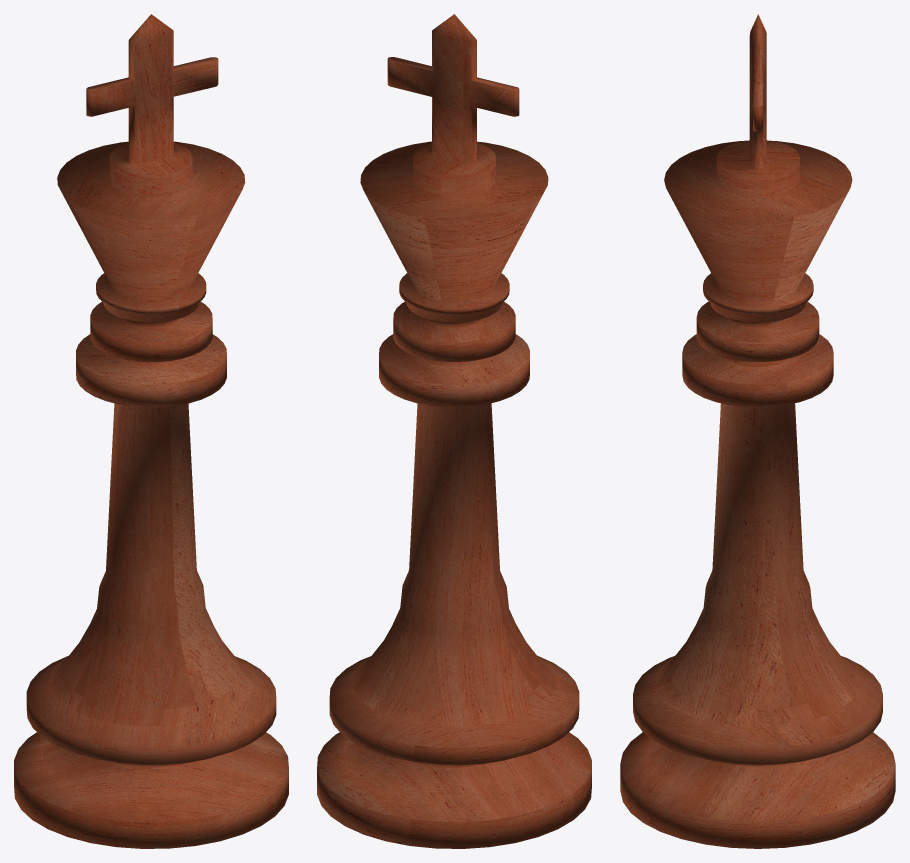
Rendered from king.obj.
The picture shows the model from 3 angles, left to right: view 1: azimuth 30°, elevation 25°; view 2: azimuth 150°, elevation 25°; view 3: azimuth 270°, elevation 25°; orthographic projection.
Visible parts, largest first — view 1: Mesh.001_Krol_Cylinder.005; view 2: Mesh.001_Krol_Cylinder.005; view 3: Mesh.001_Krol_Cylinder.005.
Boxes of the visible parts, x1,y1,x2,y2 form: Mesh.001_Krol_Cylinder.005: (14,14,288,848); Mesh.001_Krol_Cylinder.005: (317,14,591,848); Mesh.001_Krol_Cylinder.005: (620,14,895,848).
Size of the model in its own units: 0.3139 by 0.9767 by 0.3139.
